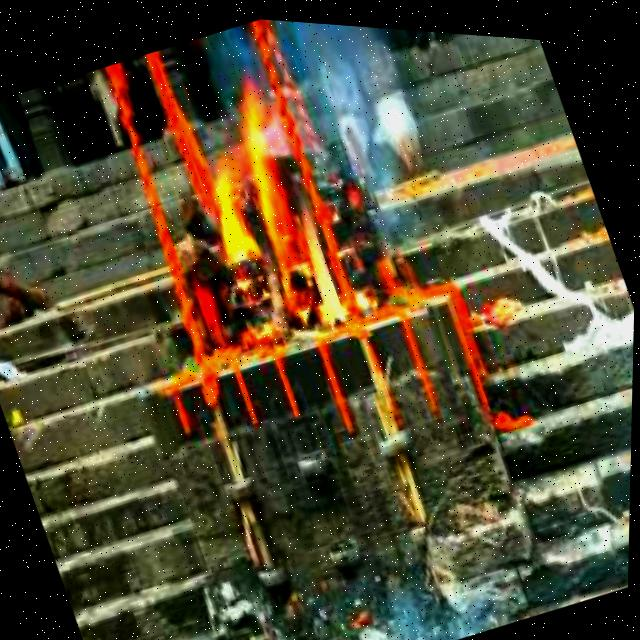Fire: (177, 91, 359, 349)
